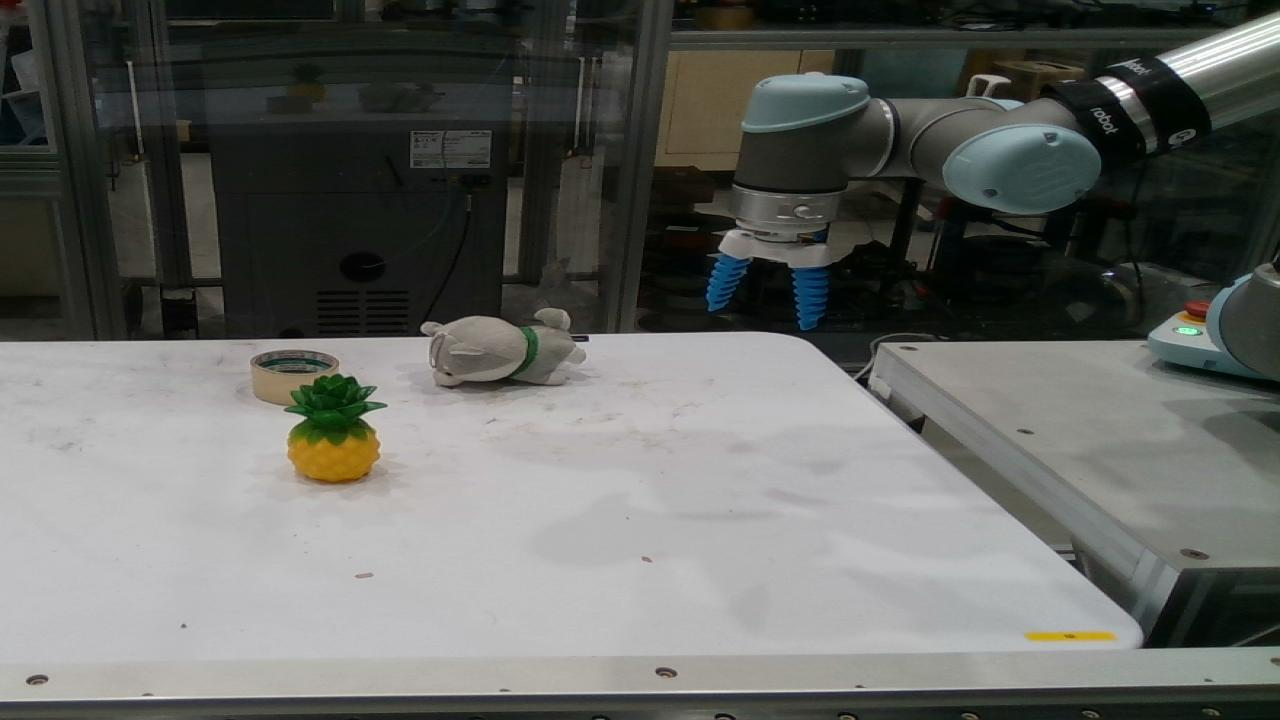UR5: (717, 8, 1279, 268), (1204, 240, 1279, 380)
gripper_left: (707, 254, 750, 312)
gripper_right: (792, 265, 827, 330)
target: (421, 308, 587, 388), (283, 373, 390, 482), (250, 349, 340, 405)
